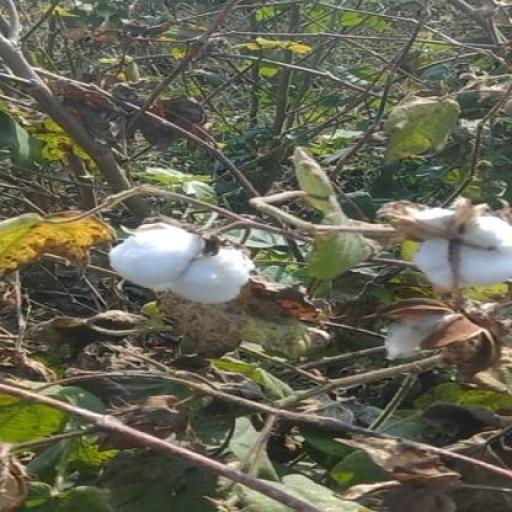cotton_ready: (79, 206, 288, 328)
